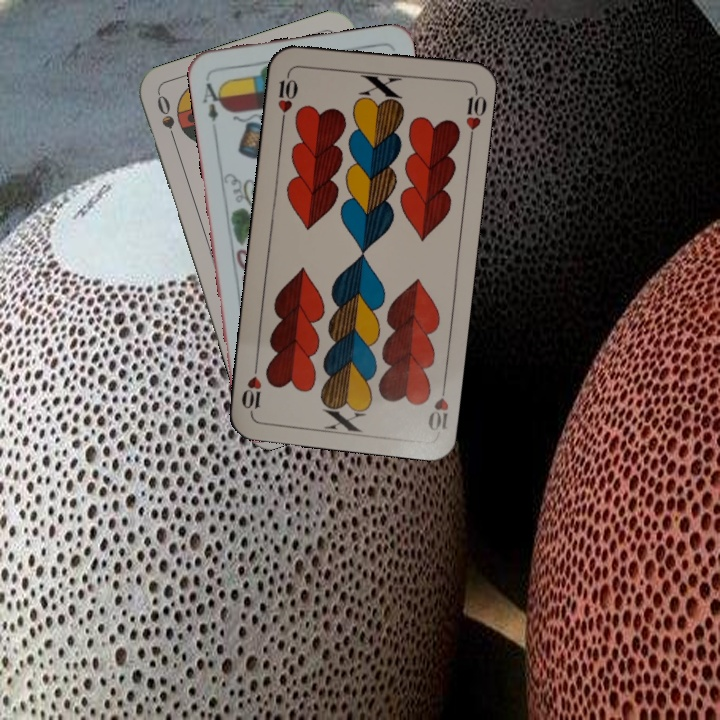EA: (198, 79, 227, 124)
H10: (423, 376, 451, 434), (274, 67, 301, 126)
SO: (153, 90, 180, 149)
